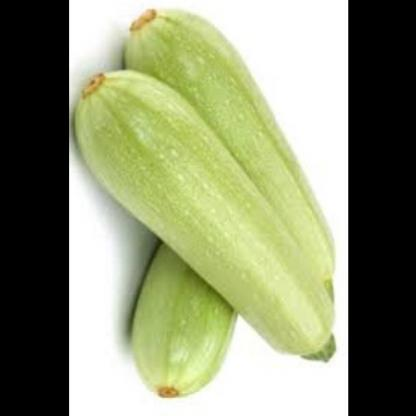vegetable marrow: (69, 66, 340, 366), (131, 1, 348, 296), (124, 242, 241, 405)
